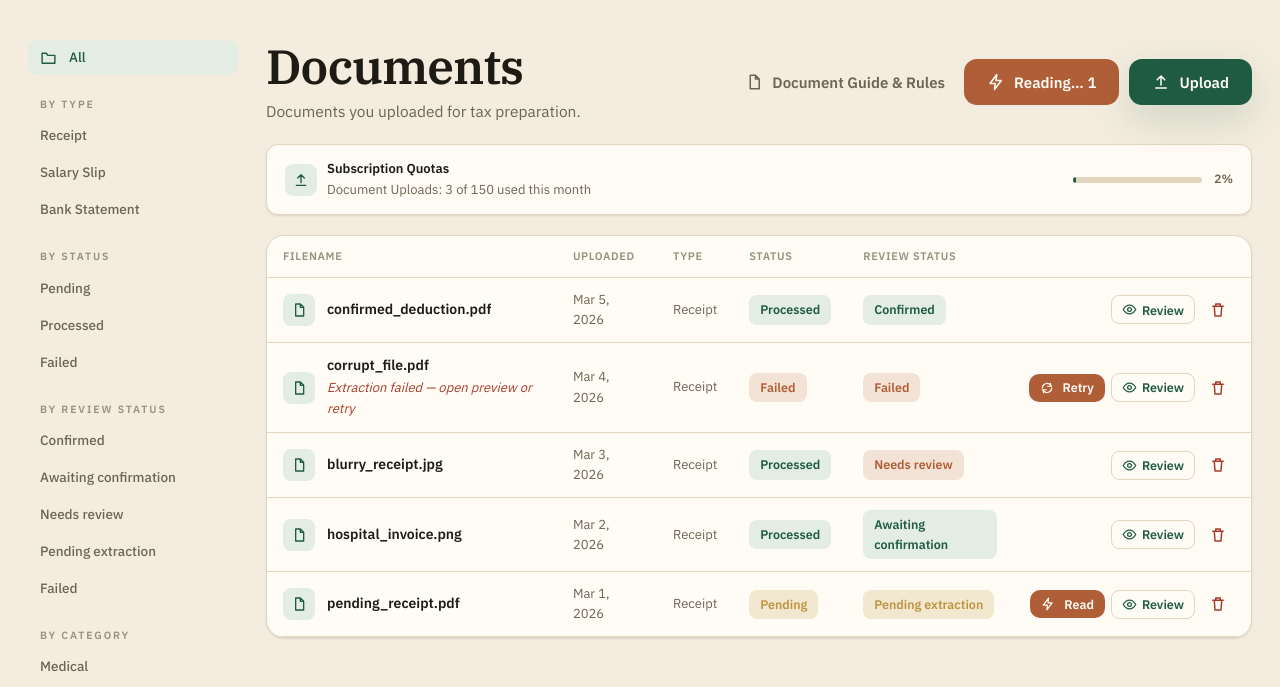
Test: Files page review status display and filtering (Card G-FILES-REVIEW-STATUS01) › filters documents by confirmed review status when clicked
This screenshot has width=1280, height=687.
Expected: the text "confirmed_deduction.pdf" is shown, [327,299,491,321]
Click the button "Confirmed". click: (133, 441)
box: [28,423,238,458]
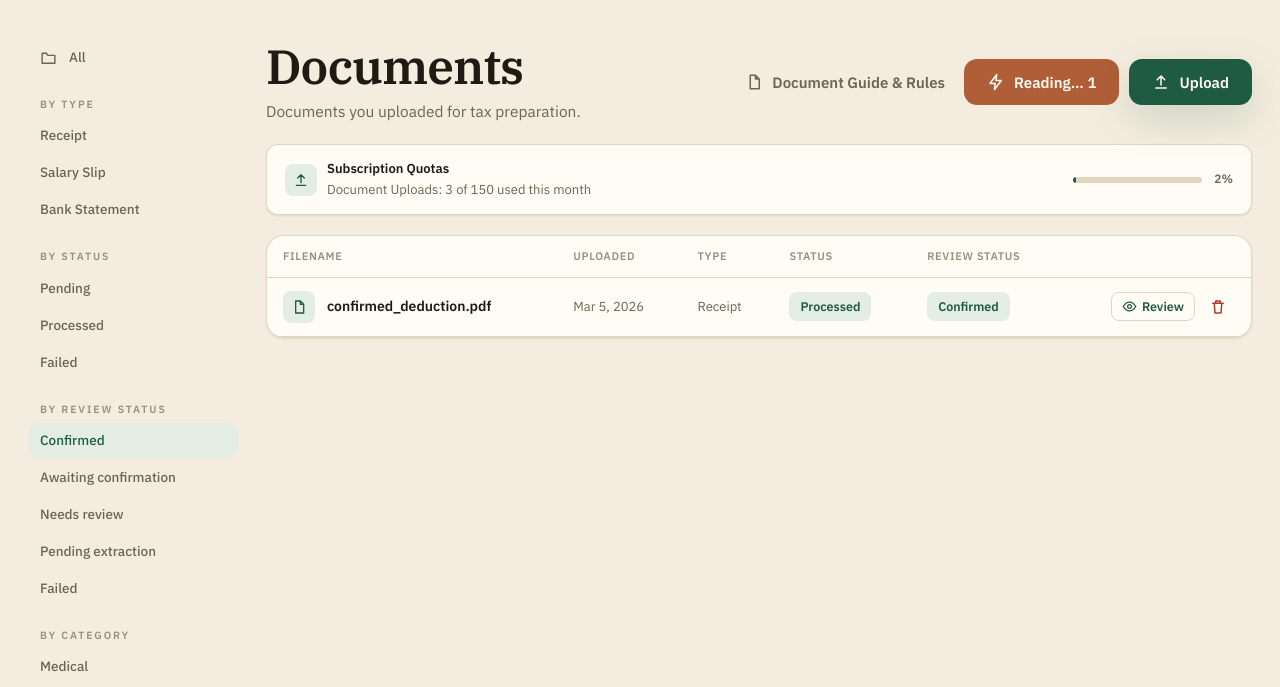
Now the text "pending_receipt.pdf" is gone
Now the text "hospital_invoice.png" is gone
Now the text "blurry_receipt.jpg" is gone
